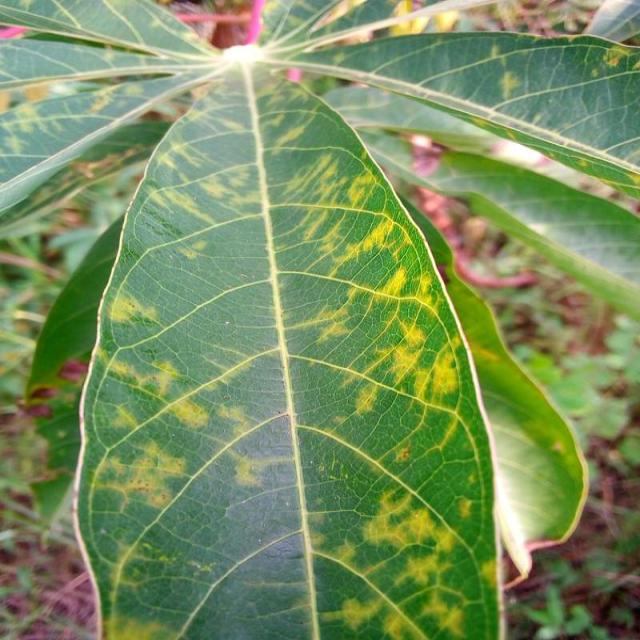cassava leaf: (71, 60, 506, 638)
